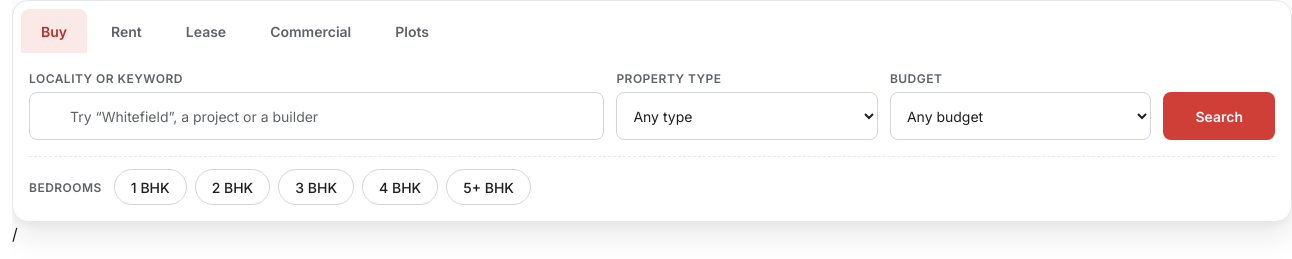
Test: HeroSearch › keeps the BHK chips off the tabs that have no bedrooms
Expected: the button "3 BHK" is shown, [278, 169, 354, 205]
Click the tab "Plots" at (412, 31), box [375, 9, 449, 53]
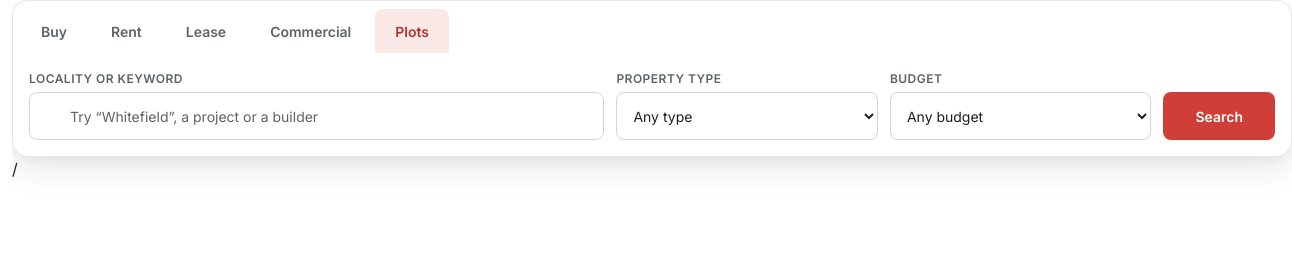
Expected: the button "3 BHK" is gone
